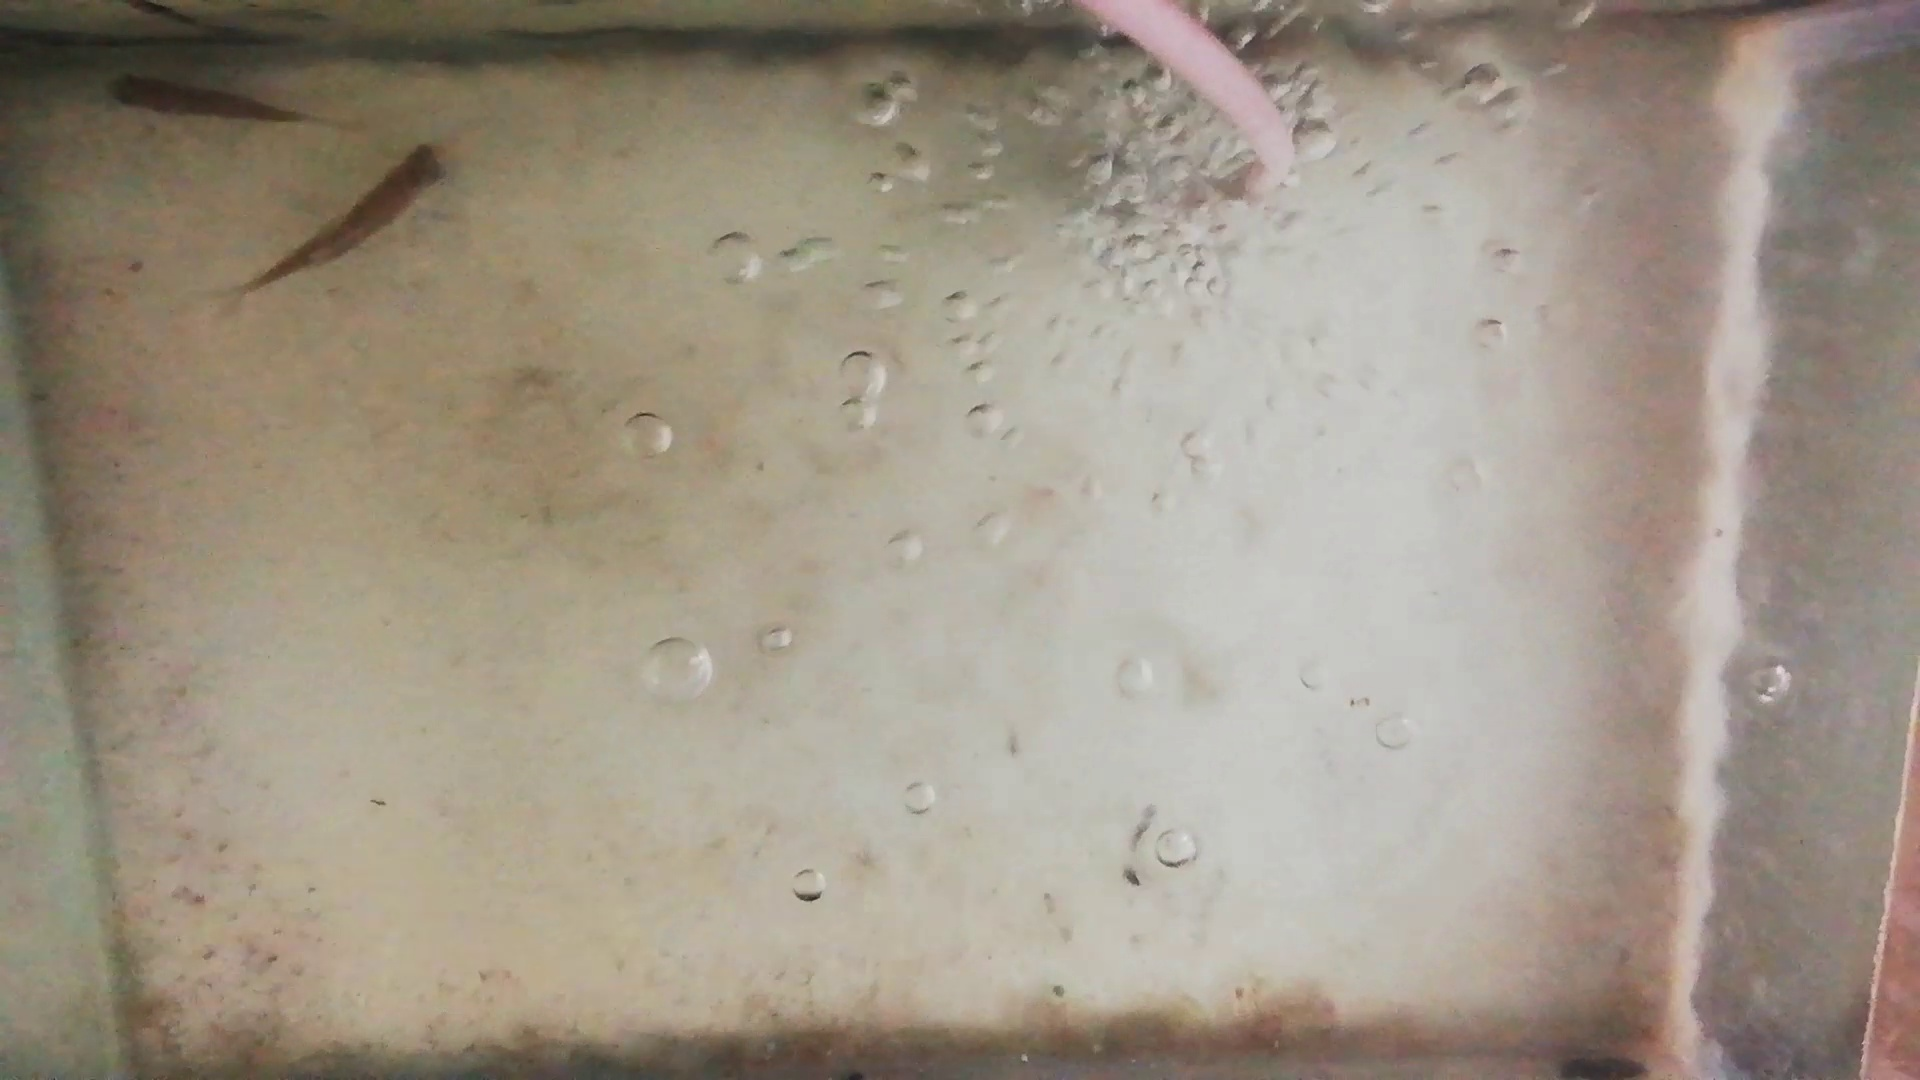fish: (251, 138, 455, 285), (103, 73, 302, 124)
